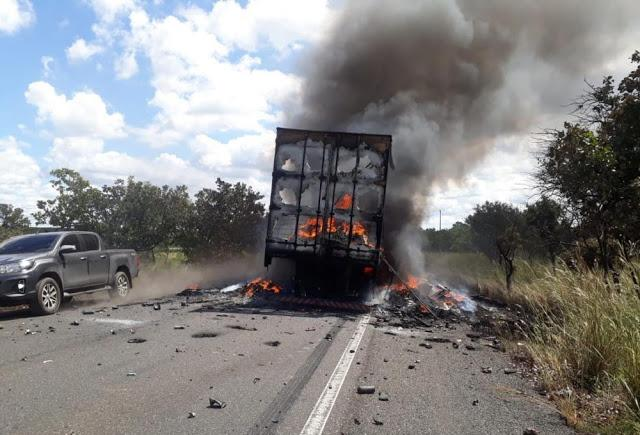fire: (301, 218, 367, 242)
smoke: (340, 10, 511, 112), (390, 131, 423, 242)
